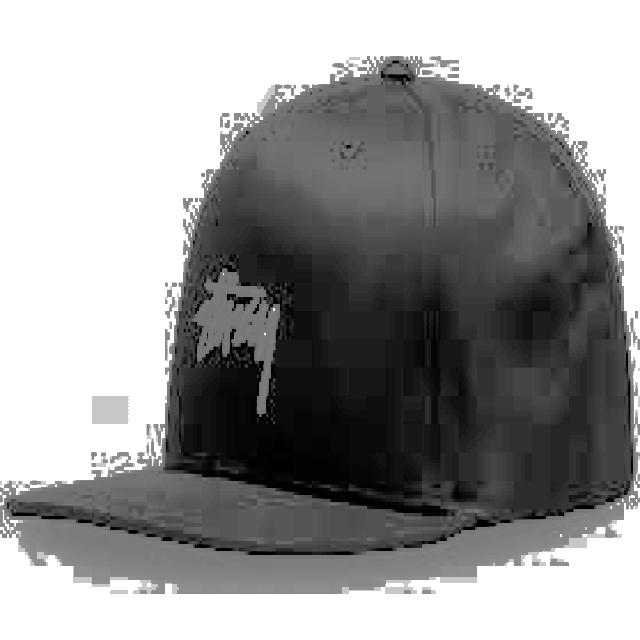TOPI: (2, 49, 633, 558)
